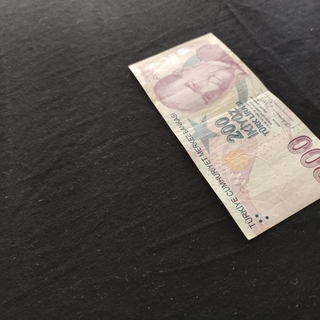200TLFront: (128, 31, 320, 241)
